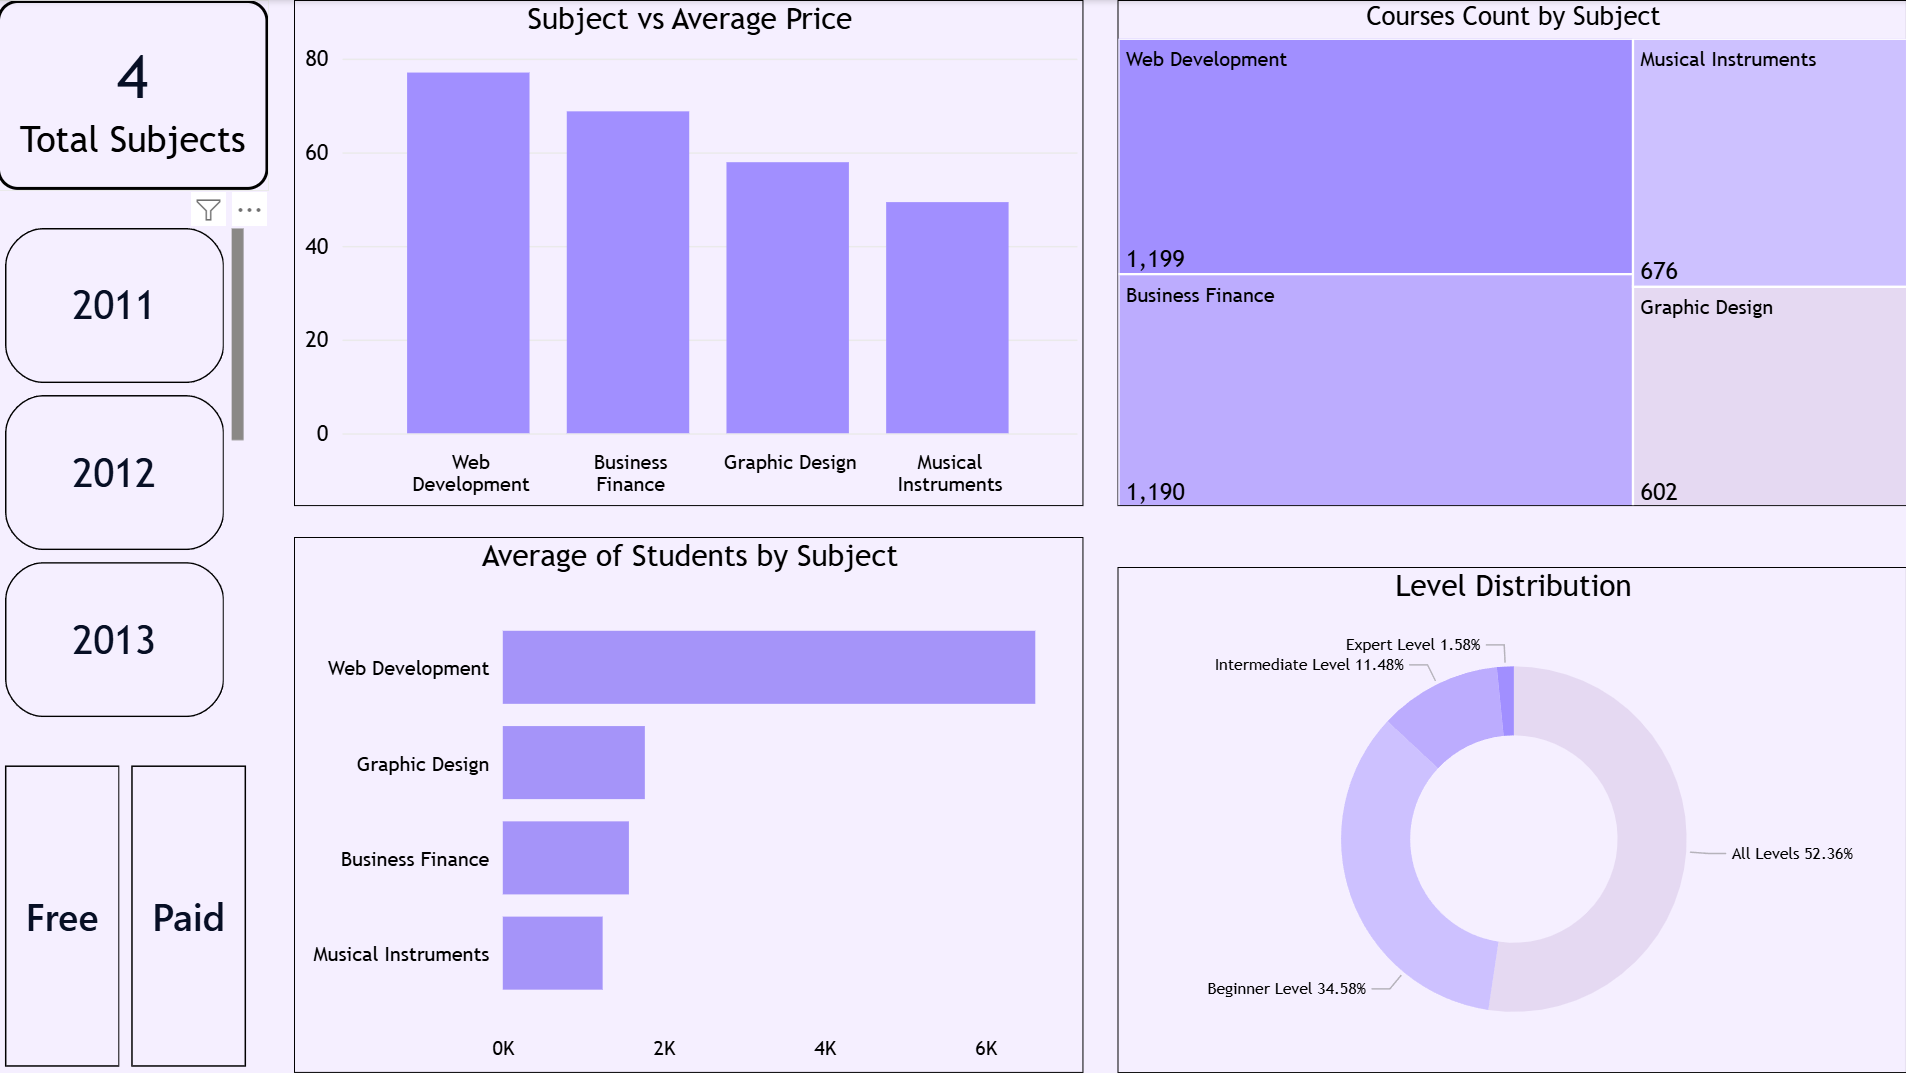

The page's visual inventory and layout, read from the dashboard file:
{"tool":"powerbi","page":{"name":"SUBJECTS","canvas":[1280,720],"ordinal":3},"visuals":[{"type":"card","fields":{"Values":["Udemy_Cleaned.Total Subjects"]},"box":[0,0,181.9,127.5],"z":0},{"type":"columnChart","title":"Subject vs Average Price","fields":{"Category":["Udemy_Cleaned.Subject"],"Y":["Avg(Udemy_Cleaned.Price_USD)"]},"box":[199.3,0,529.5,339.5],"z":1000},{"type":"donutChart","title":"Level Distribution","fields":{"Category":["Udemy_Cleaned.Level"],"Y":["CountNonNull(Udemy_Cleaned.Course Id)"]},"box":[750.9,380.1,529.5,339.5],"z":2000},{"type":"treemap","title":"Courses Count by Subject","fields":{"Group":["Udemy_Cleaned.Subject"],"Values":["CountNonNull(Udemy_Cleaned.Course Id)"]},"box":[750.9,0,529.5,339.5],"z":3000},{"type":"advancedSlicerVisual","fields":{"Values":["Udemy_Cleaned.Is_Paid"]},"box":[0,507.5,173.8,212],"z":4000},{"type":"advancedSlicerVisual","fields":{"Values":["Udemy_Cleaned.Correct_Date.Variation.Date Hierarchy.Year"]},"box":[0,148.3,170.3,339.5],"z":5000},{"type":"clusteredBarChart","fields":{"Category":["Udemy_Cleaned.Subject"],"Y":["Avg(Udemy_Cleaned.Students)"]},"box":[199.3,360.4,529.5,359.2],"z":6000}]}

Visuals, with their boxes in screenshot pixels (x1, y1, x2, y2), scaled from the page's 1280x720 canvas onto the 1906x1073 screenshot:
card - Udemy_Cleaned.Total Subjects: box=[0, 0, 271, 190]
"Subject vs Average Price" columnChart: box=[297, 0, 1085, 506]
"Level Distribution" donutChart: box=[1118, 566, 1905, 1072]
"Courses Count by Subject" treemap: box=[1118, 0, 1905, 506]
advancedSlicerVisual - Udemy_Cleaned.Is_Paid: box=[0, 756, 259, 1072]
advancedSlicerVisual - Udemy_Cleaned.Correct_Date.Variation.Date Hierarchy.Year: box=[0, 221, 254, 727]
clusteredBarChart - Udemy_Cleaned.Subject x Avg(Udemy_Cleaned.Students): box=[297, 537, 1085, 1072]
